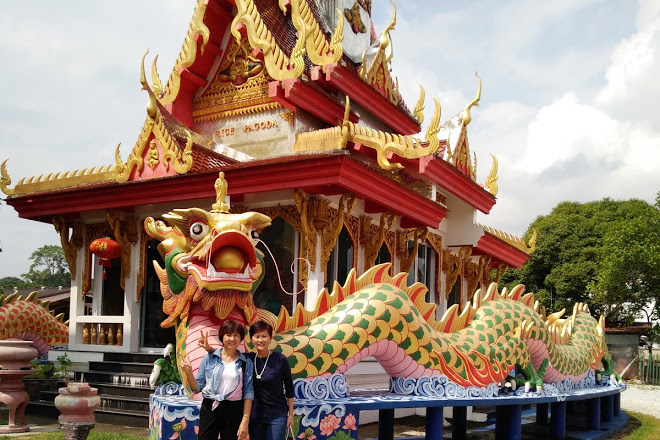Buddhist Temple: (81, 3, 486, 401)
